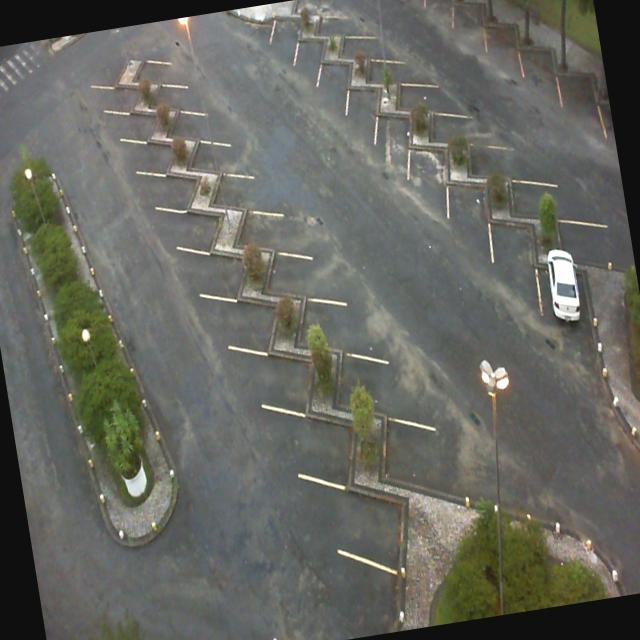car: (540, 242, 585, 331)
